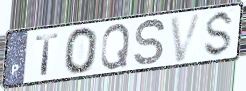O: (63, 25, 99, 76)
Q: (99, 22, 132, 72)
S: (202, 9, 236, 59), (133, 17, 167, 67)
T: (34, 31, 61, 77)
V: (168, 11, 205, 64)
